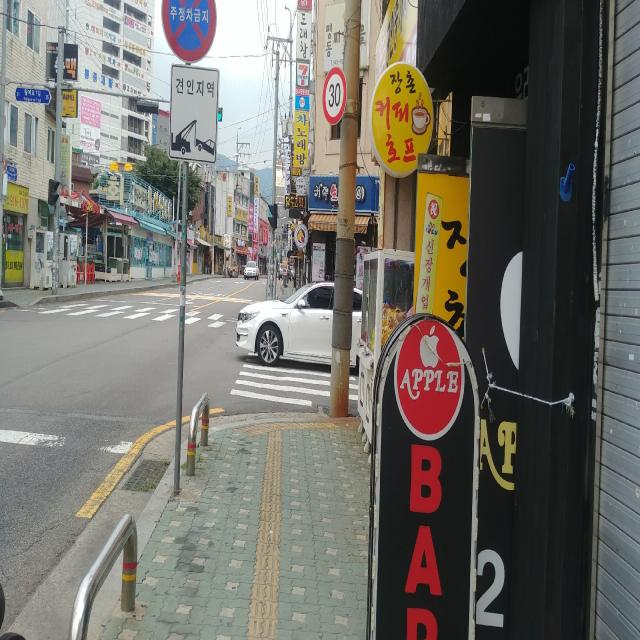횡단보도: (39, 289, 234, 328), (230, 351, 358, 408)
